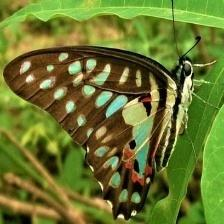butterfly: (3, 46, 194, 220)
